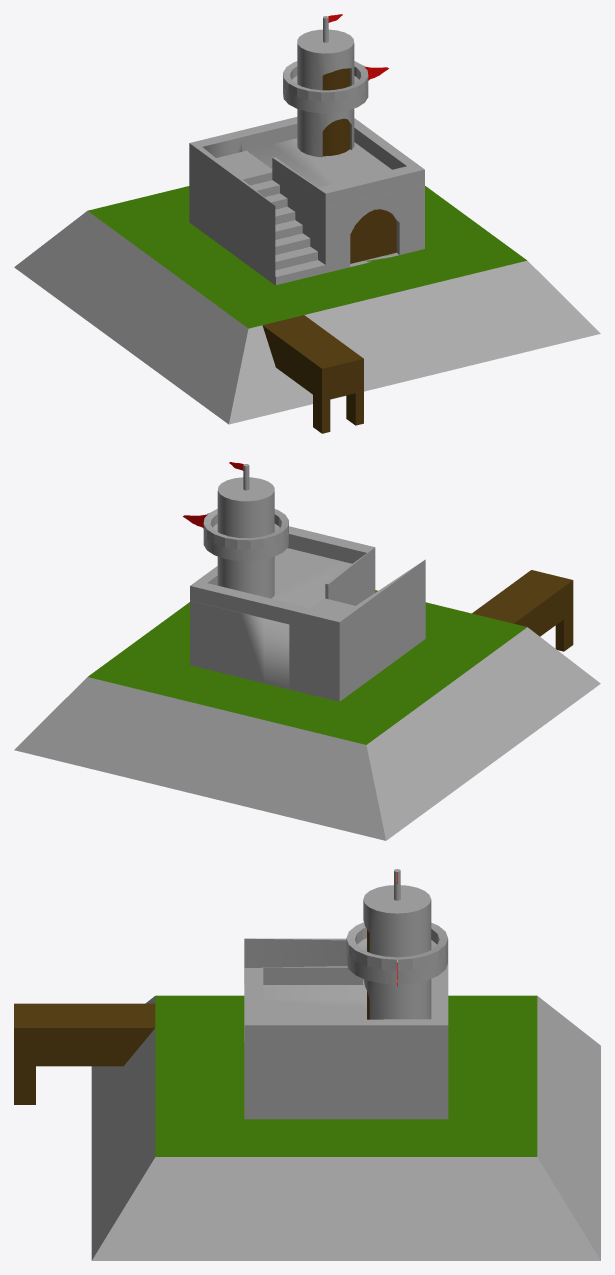
The model's file is Port.fbx.
3 views of the same model, one above another, from view 1: azimuth 30°, elevation 25°; view 2: azimuth 150°, elevation 25°; view 3: azimuth 270°, elevation 25° (orthographic). The views are drawn at different scales.
Parts seen in each view (by area): view 1: pCube6; view 2: pCube6; view 3: pCube6.
Part boxes in pixels (x1,y1,x2,y2): pCube6: (14,14,600,433); pCube6: (14,462,600,840); pCube6: (14,869,600,1260).
Size of the model in its own units: 75 by 49.73 by 86.44.
